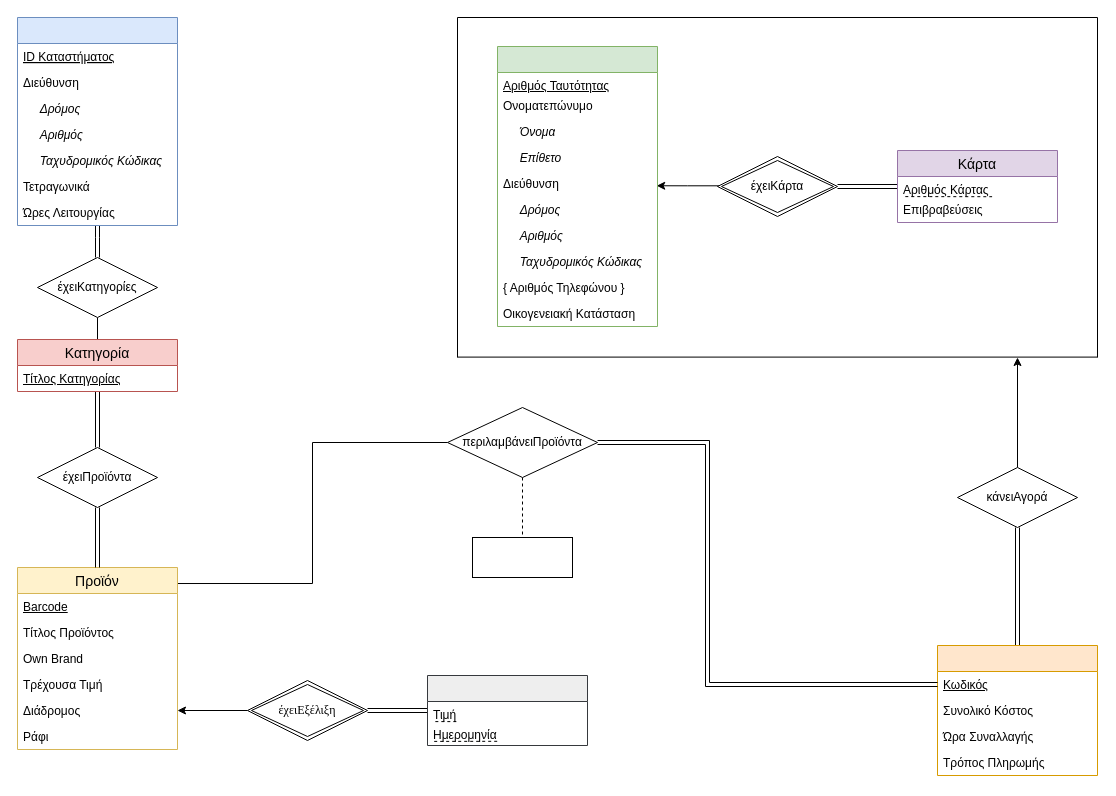
Some shapes in this 1116 by 796 pixel diagram are drawn without their labels. Here are the shapes that lost their labels. From the top down, the box of each, then its label:
(16, 16, 178, 226): Κατάστημα
(496, 46, 658, 326): Πελάτης
(472, 536, 572, 578): Ποσότητα
(426, 674, 588, 746): Ιστορικό
(936, 644, 1098, 776): Αγορά
